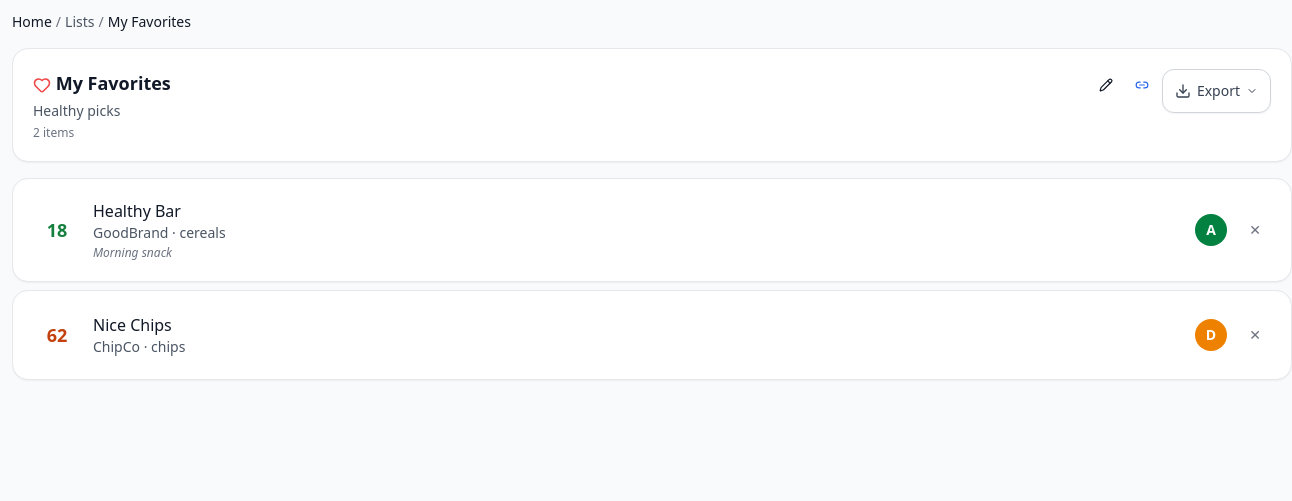
Scenario: ListDetailPage › shows copy link and revoke when sharing enabled
Click the button titled "Share settings" at (1142, 85), box top-left (1126, 69), bottom-right (1158, 101)
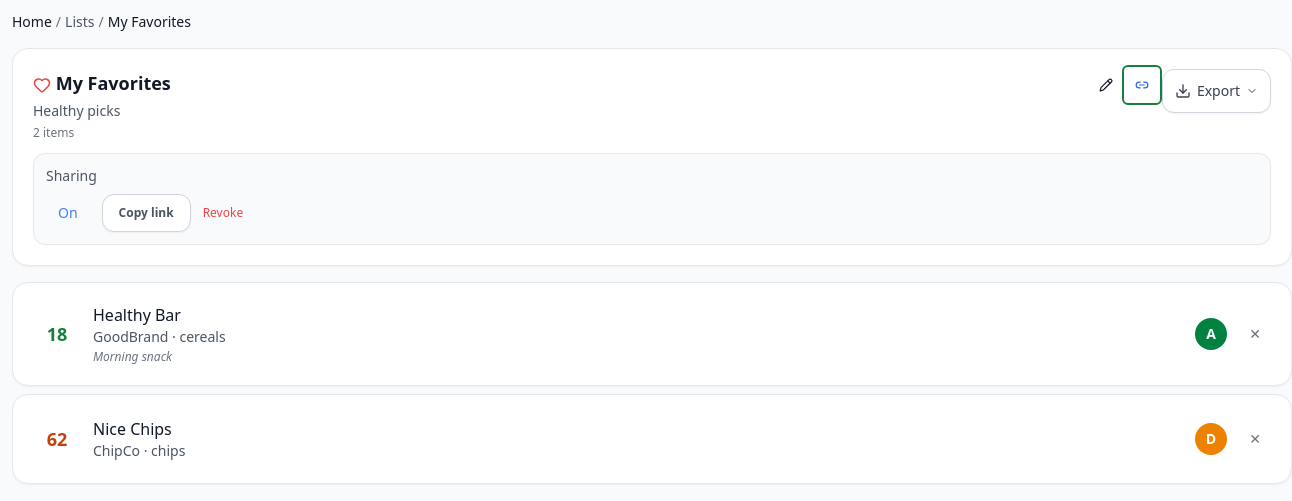
Expected: the button "On" is shown, top-left (46, 197), bottom-right (90, 229)
Expected: the button "Copy link" is shown, top-left (102, 194), bottom-right (191, 232)
Expected: the button "Revoke" is shown, top-left (203, 205), bottom-right (243, 221)
